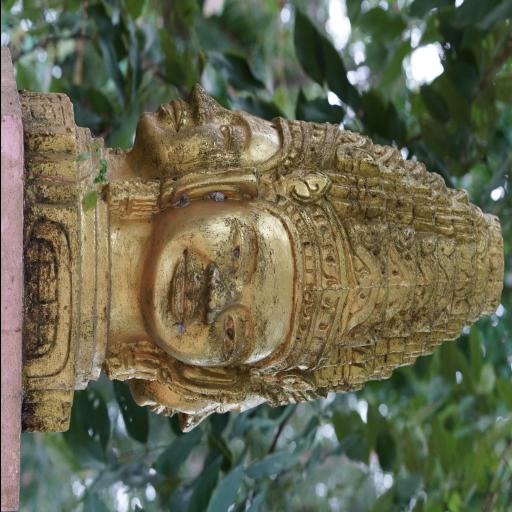than: (15, 59, 512, 480)
